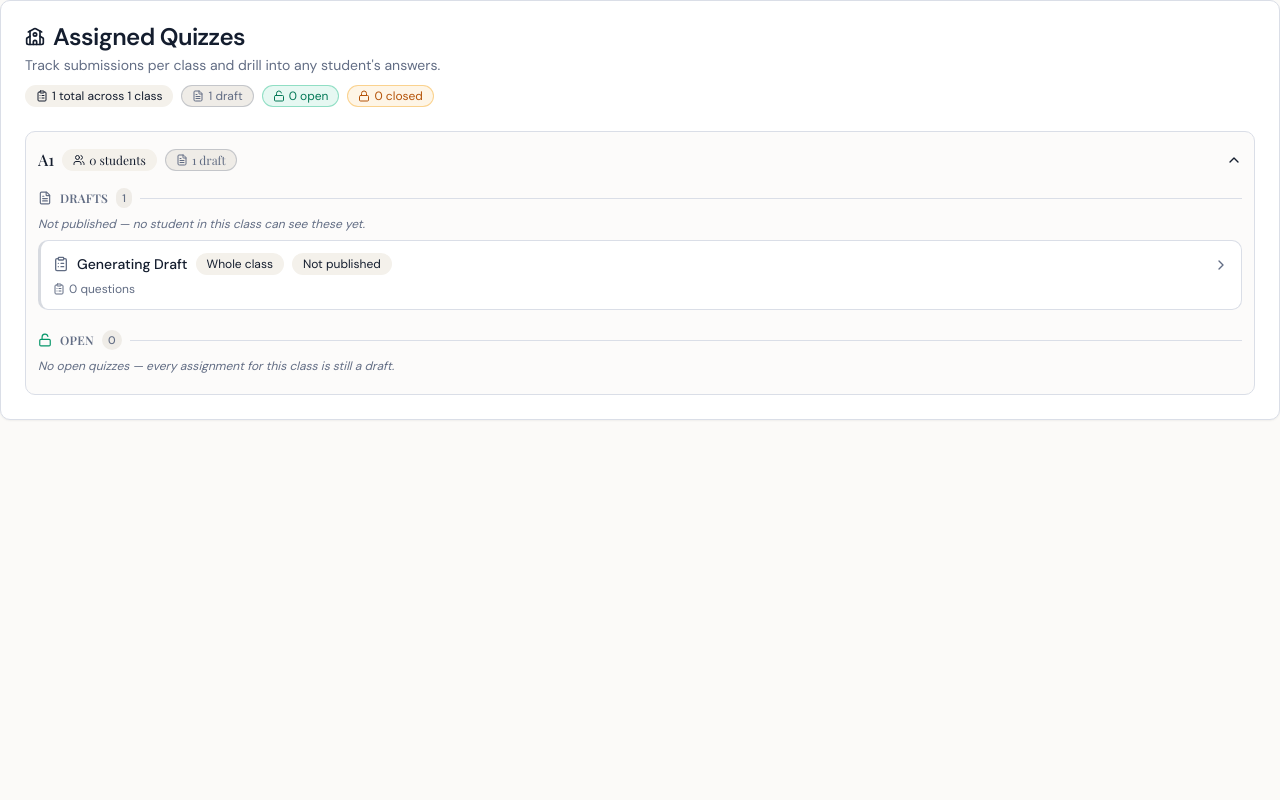
Test: AssignedQuizzesBoard › refuses to publish a draft that has no questions yet
The width and height of the screenshot is (1280, 800).
Later steps or results of the test are not shown.
Click the button "Generating Draft Whole class Not published 0 questions".
click(132, 264)  # box [41,241,1241,309]
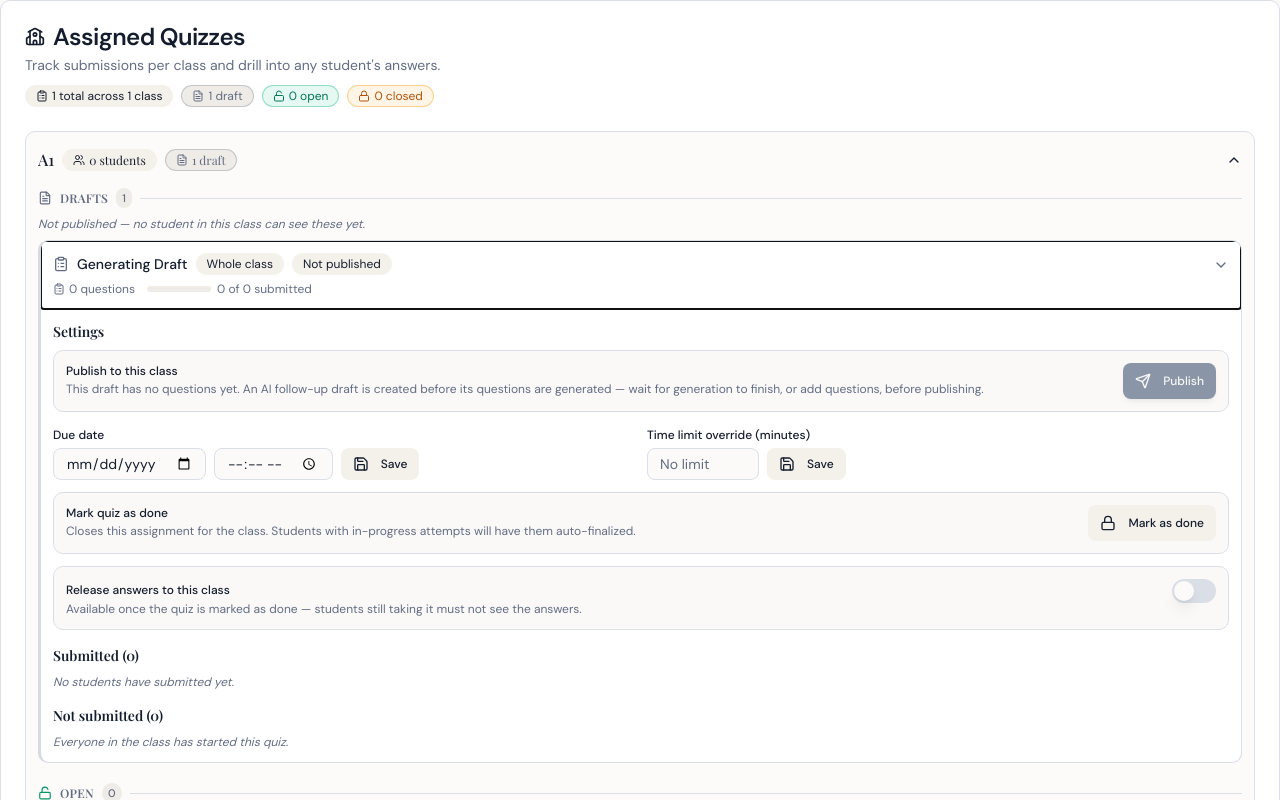
Check: the button with test id "publish-oq-empty" is disabled, box [1123,363,1216,399]
Check: the text "This draft has no questions yet" is shown, box [66,381,984,397]
